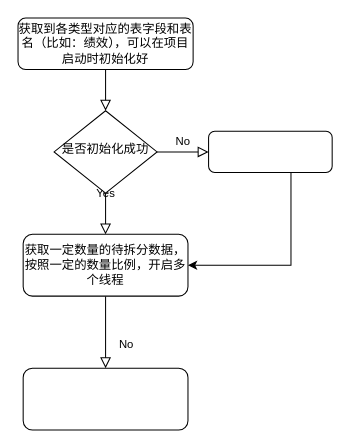
This 350x448 diagram has some shape labels left out. Here are the shapes that lost their labels. From the top down, the centre of each, then its label:
At (270,151): "重新初始化".
At (105,398): "获取表和对应的字段信息，将所有表字段截断成n个批次，按批次执行，一定批次进行批量提交".
